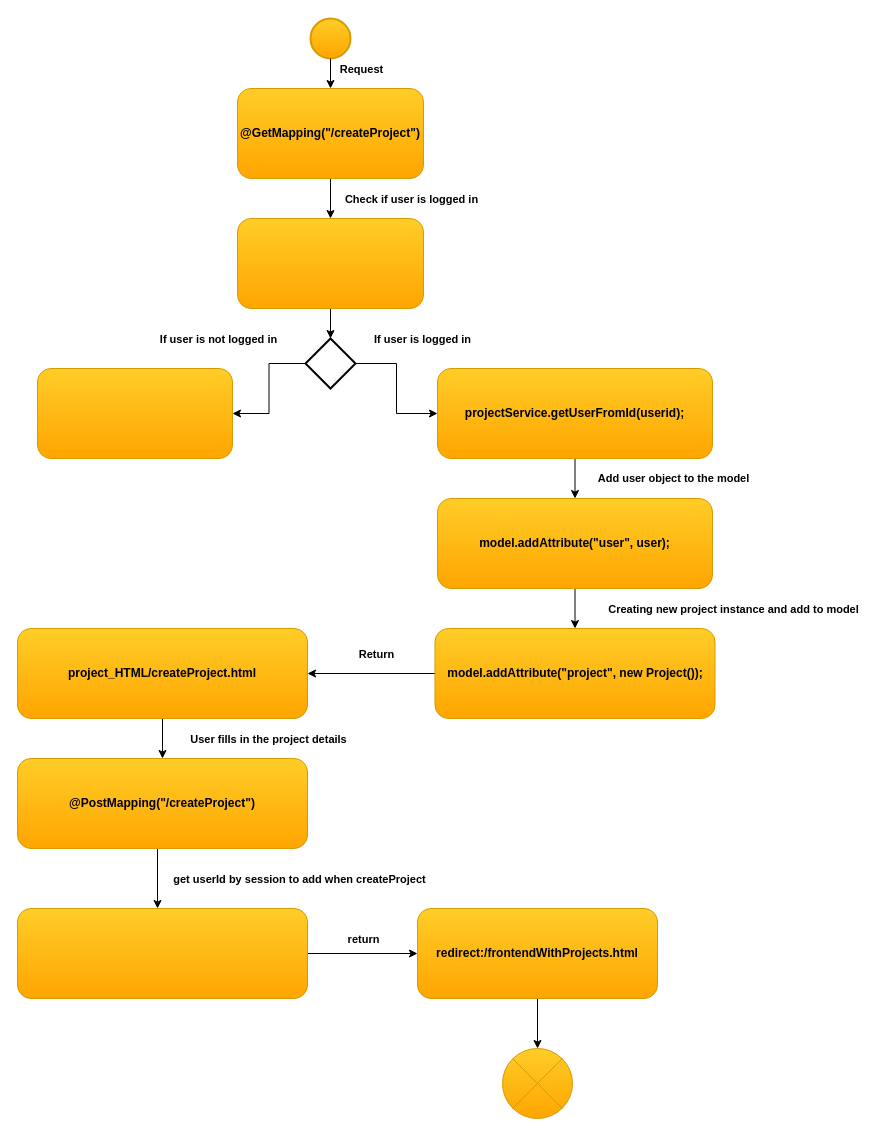
This 876x1136 diagram has some shape labels left out. The box of each missing label's shape, as (x1, y1, x2, y2) in pixels:
getUserId(session): (236, 218, 424, 308)
projectService.createProject(project, userid): (16, 908, 308, 998)
Return login_HTML/login.html: (36, 368, 232, 458)
